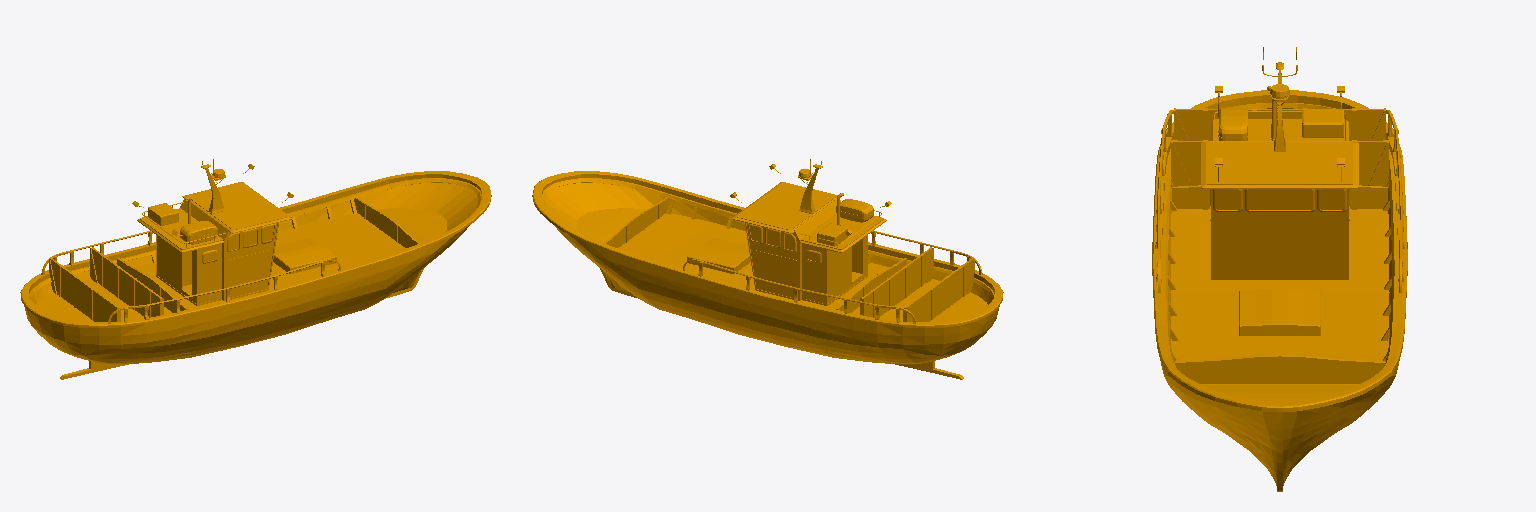
URDF robot description (vessel_f):
<?xml version="1.0" ?>
<robot name="vessel_f">
  <link name="vessel_f__link">
    <inertial>
      <mass value="1500.0"/>
      <origin xyz="0 0 0" rpy="0 0 0"/>
      <inertia ixx="3625" ixy="0.0" ixz="0.0" iyy="25000" iyz="0.0" izz="27625"/>
    </inertial>
    <collision name="vessel_f__collision">
      <origin xyz="0 0 0" rpy="1.5708 0     1.5708"/>
      <geometry>
        <mesh filename="package://ship_models/VesselF/meshes/Boat06.dae" scale="1.0 1.0 1.0"/>
      </geometry>
    </collision>
    <visual name="vessel_f__visual">
      <origin xyz="0 0 0" rpy="1.5708 0     1.5708"/>
      <geometry>
        <mesh filename="package://ship_models/VesselF/meshes/Boat06.dae" scale="1.0 1.0 1.0"/>
      </geometry>
    </visual>
  </link>
</robot>

--- Render facts (derived) ---
3 views of the same robot in one strip: view 1: azimuth 30°, elevation 25°; view 2: azimuth 150°, elevation 25°; view 3: azimuth 270°, elevation 25° (orthographic).
Robot: vessel_f — 1 links, 0 joints (none); root link vessel_f__link; default pose: all joints at 0.
Visible links, largest first — view 1: vessel_f__link; view 2: vessel_f__link; view 3: vessel_f__link.
Boxes of the visible links, x1=… form: vessel_f__link: x1=20, y1=159, x2=491, y2=379; vessel_f__link: x1=532, y1=159, x2=1003, y2=379; vessel_f__link: x1=1152, y1=47, x2=1407, y2=491.
Size in the robot's own frame: 15.98 by 5 by 7.02 metres.
Meshes: 1 distinct files referenced, 1 mesh visuals loaded (1 Collada DAE).
